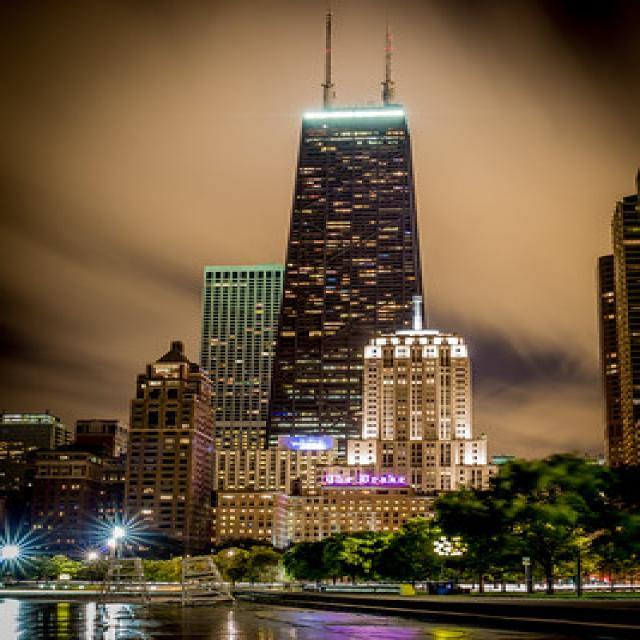Normal_building: (265, 90, 428, 464), (120, 358, 218, 562), (361, 328, 478, 493)
